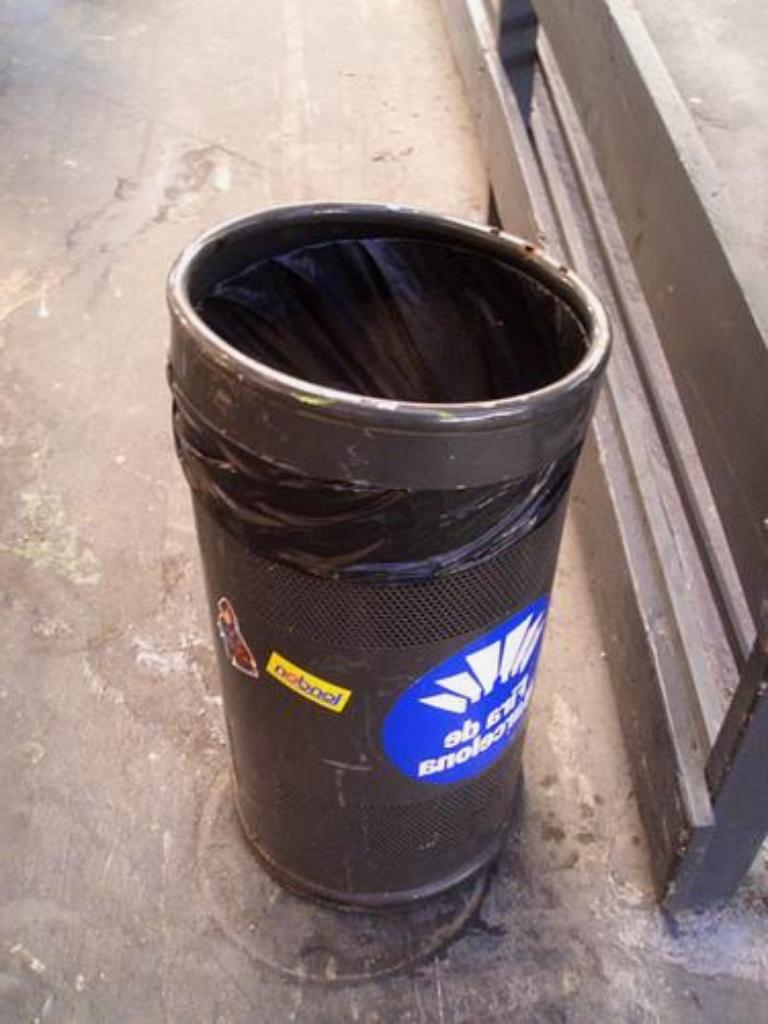dustbin: (130, 205, 607, 934)
